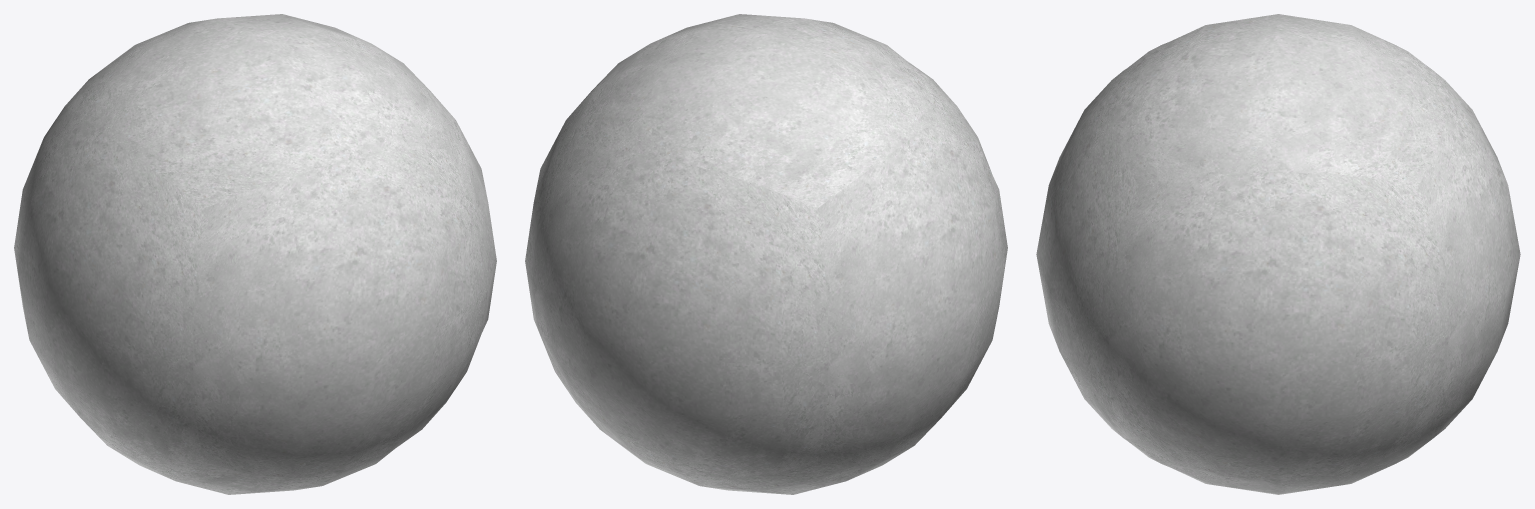
File: ball.obj
The picture shows the model from 3 angles, left to right: view 1: azimuth 30°, elevation 25°; view 2: azimuth 150°, elevation 25°; view 3: azimuth 270°, elevation 25°; orthographic projection.
Visible parts, largest first — view 1: Ball1; view 2: Ball1; view 3: Ball1.
Part boxes in pixels (bbox=[...]): Ball1: bbox=[14, 14, 496, 494]; Ball1: bbox=[525, 14, 1007, 494]; Ball1: bbox=[1036, 14, 1520, 494].
Bounding box in the file's own units: 2 × 2 × 2.
1 material, 1 textured.
